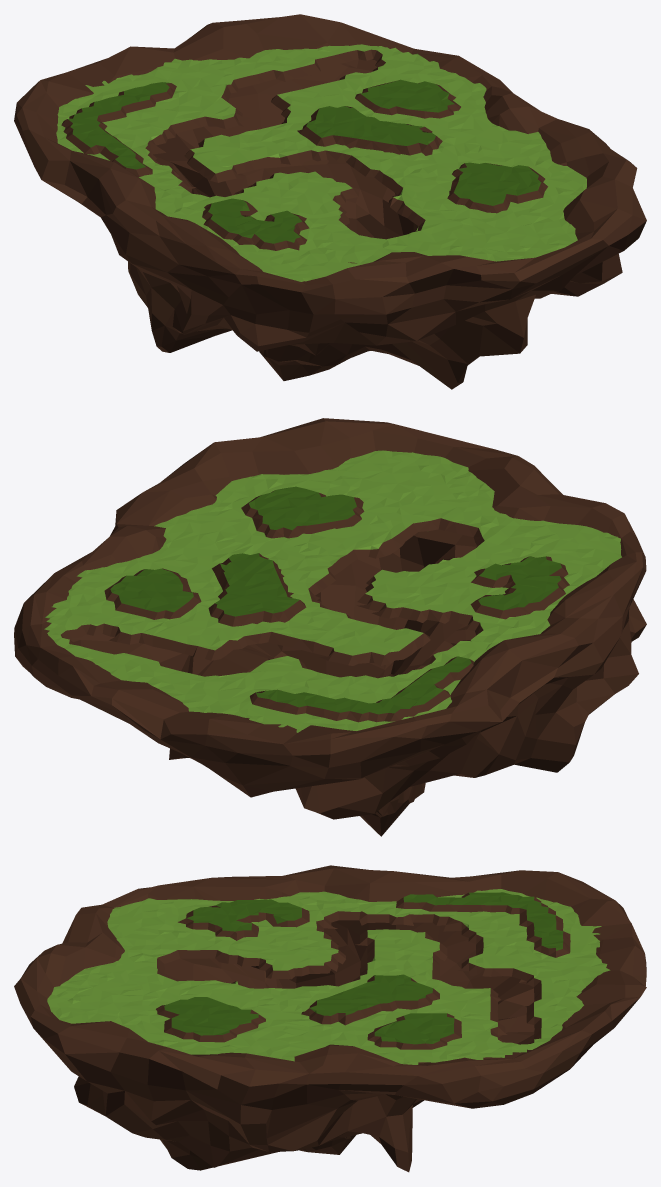
File: Main Island.fbx
The picture shows the model from 3 angles, top to bottom: view 1: azimuth 30°, elevation 25°; view 2: azimuth 150°, elevation 25°; view 3: azimuth 270°, elevation 25°; orthographic projection. The views are drawn at different scales.
Visible parts, largest first — view 1: Sphere, Plane; view 2: Sphere, Plane; view 3: Sphere, Plane.
Part boxes in pixels (x1,y1,x2,y2): Sphere: (14, 14, 646, 389); Plane: (56, 44, 586, 281); Sphere: (14, 418, 646, 836); Plane: (44, 450, 621, 732); Sphere: (14, 865, 646, 1172); Plane: (47, 889, 610, 1064).
Size of the model in its own units: 25884 by 12530 by 32746.
